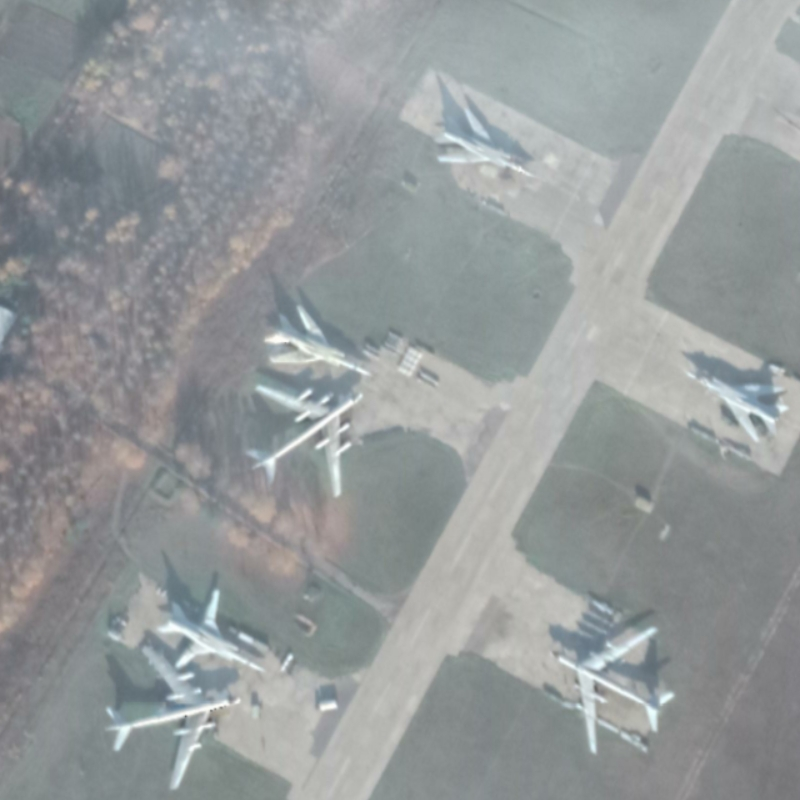A12: (154, 586, 269, 675), (261, 302, 376, 379), (683, 368, 792, 444), (432, 106, 538, 180)
A17: (101, 642, 244, 793), (551, 623, 679, 757), (243, 382, 365, 501)
